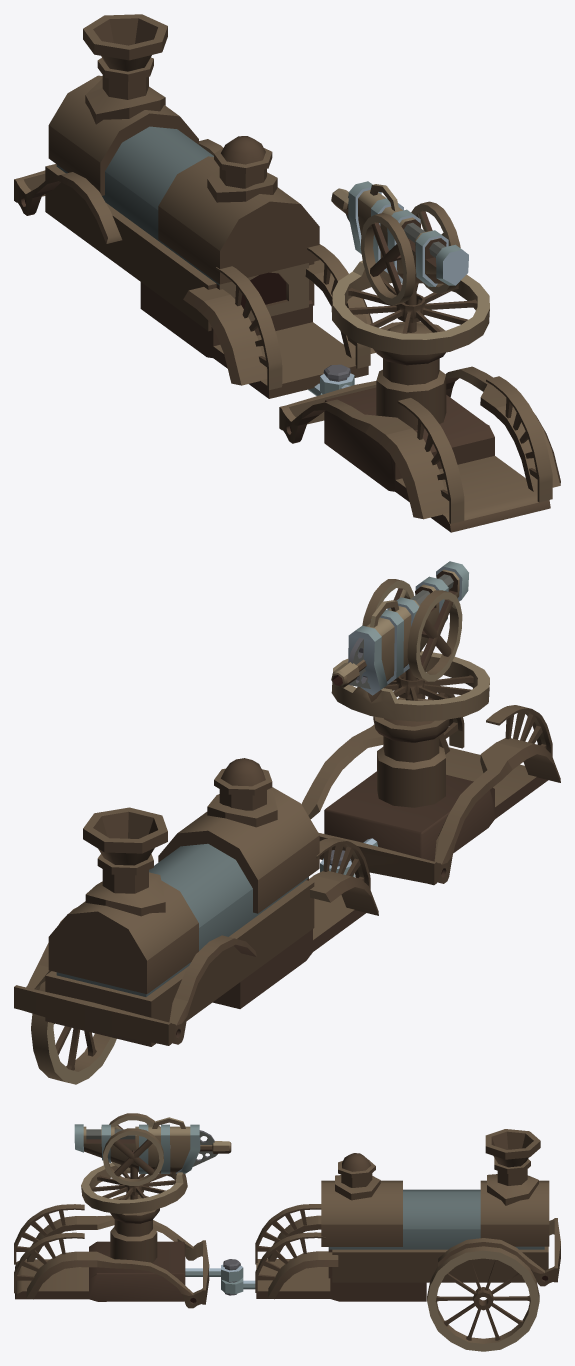
File: train.glb
3 views of the same model, one above another, from view 1: azimuth 30°, elevation 25°; view 2: azimuth 150°, elevation 25°; view 3: azimuth 270°, elevation 25° (orthographic). The views are drawn at different scales.
Visible parts, largest first — view 1: train, cart, gun; view 2: train, gun, cart, wheel; view 3: train, cart, gun, wheel.
Part boxes in pixels (<box>): train: <box>14,14,375,398</box>; cart: <box>279,364,560,532</box>; gun: <box>331,181,489,430</box>; train: <box>14,758,378,1046</box>; gun: <box>331,561,489,807</box>; cart: <box>301,691,560,885</box>; wheel: <box>31,981,116,1084</box>; train: <box>221,1129,560,1301</box>; cart: <box>14,1204,243,1308</box>; gun: <box>74,1113,231,1263</box>; wheel: <box>427,1246,539,1351</box>.
Size of the model in its own units: 3.29 by 6.43 by 15.2.
Materials: 1 (1 with a texture image).
